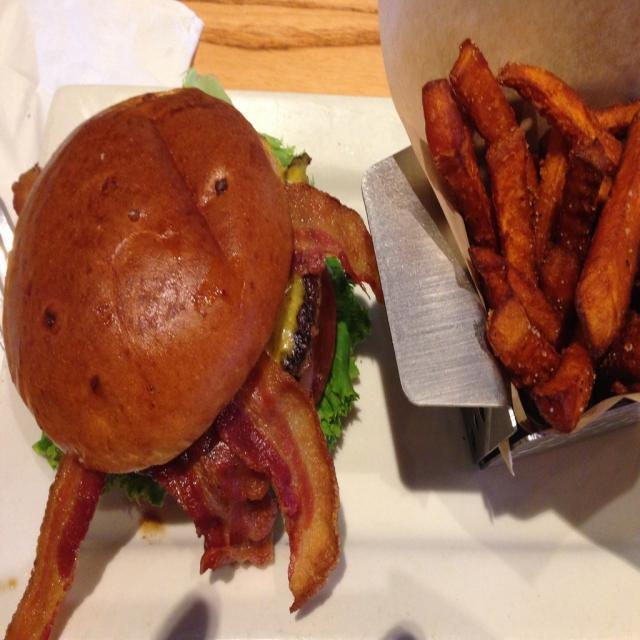French fries: (421, 46, 629, 408)
